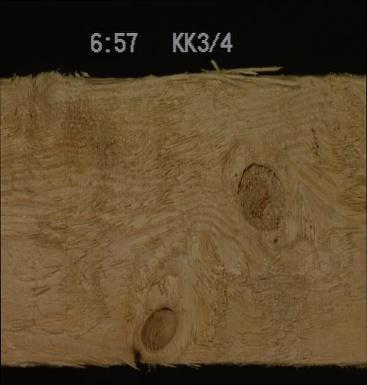dry_knot: (232, 158, 286, 233), (136, 303, 179, 352)
wave: (45, 70, 150, 94)
